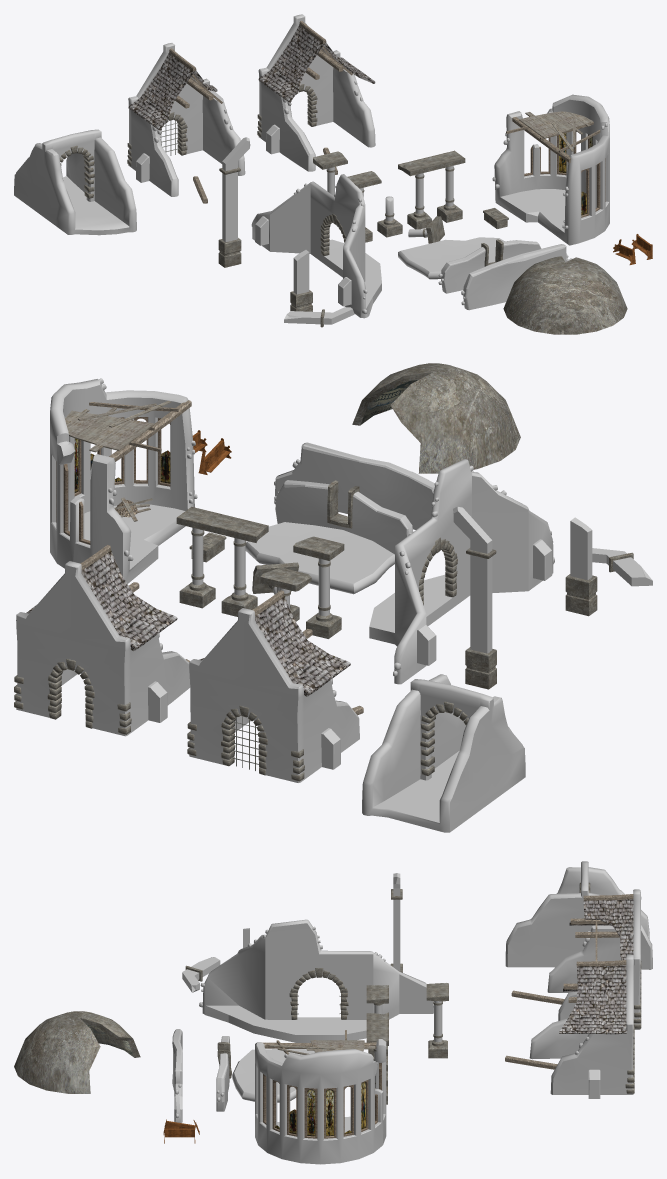
File: ruins_creation_kit__cv1.FBX
3 views of the same model, one above another, from view 1: azimuth 30°, elevation 25°; view 2: azimuth 150°, elevation 25°; view 3: azimuth 270°, elevation 25° (orthographic). The views are drawn at different scales.
Parts seen in each view (by area): view 1: nef_01, entrance_02, entrance_03, corridor_01, entrance_01, dome_01, pillars_01, destroyed_wall_01, pillar_01, destroyed_floor_01, destroyed_wall_02, pillar_broke_01 (+2 smaller); view 2: nef_01, entrance_02, entrance_03, corridor_01, entrance_01, dome_01, pillars_01, destroyed_wall_01, destroyed_floor_01, destroyed_wall_02, pillar_01, pillar_broke_01 (+2 smaller); view 3: entrance_01, nef_01, entrance_02, corridor_01, dome_01, entrance_03, pillars_01, destroyed_floor_01, pillar_02, destroyed_wall_02, destroyed_wall_01, pillar_01 (+1 smaller).
Part boxes in pixels (x1,y1,x2,y2): nef_01: (492,94,609,245); entrance_02: (257,14,375,174); entrance_03: (127,43,245,203); corridor_01: (14,129,136,235); entrance_01: (251,174,381,318); dome_01: (503,256,627,334); pillars_01: (347,150,465,243); destroyed_wall_01: (461,244,572,310); pillar_01: (218,137,250,267); destroyed_floor_01: (398,237,504,279); destroyed_wall_02: (438,239,541,293); pillar_broke_01: (290,250,312,311); nef_01: (50,378,197,583); entrance_02: (14,545,190,736); entrance_03: (187,590,363,782); corridor_01: (362,674,525,832); entrance_01: (369,459,554,684); dome_01: (352,363,520,473); pillars_01: (176,506,344,638); destroyed_wall_01: (274,442,434,529); destroyed_floor_01: (245,522,394,594); destroyed_wall_02: (274,480,413,554); pillar_01: (453,506,496,689); pillar_broke_01: (565,517,597,616); entrance_01: (199,919,433,1042); nef_01: (255,1030,386,1164); entrance_02: (505,954,634,1098); corridor_01: (505,861,652,969); dome_01: (14,1011,140,1093); entrance_03: (511,889,641,1029); pillars_01: (366,985,388,1104); destroyed_floor_01: (232,1049,315,1102); pillar_02: (426,983,448,1058); destroyed_wall_02: (216,1036,231,1111); destroyed_wall_01: (172,1029,182,1122); pillar_01: (390,873,402,972).
Size of the model in its own units: 375 by 103 by 455.
